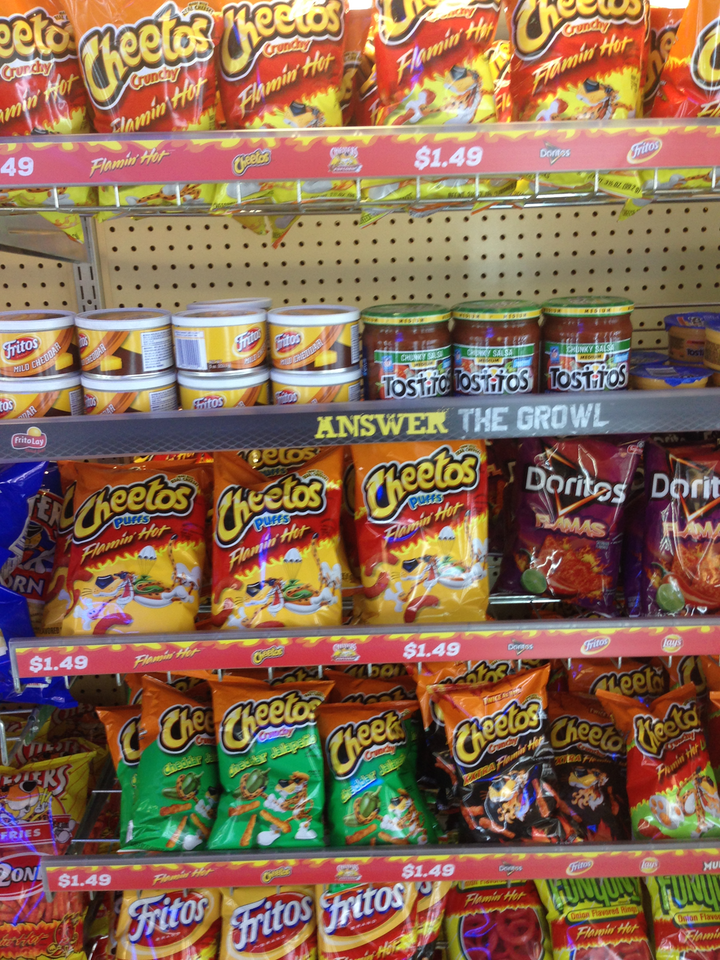chip: (60, 462, 195, 646), (353, 440, 486, 626), (215, 674, 336, 858), (504, 447, 643, 606), (209, 454, 330, 629), (75, 4, 210, 155), (213, 1, 352, 143), (361, 1, 504, 130), (335, 697, 442, 853), (514, 2, 643, 122), (459, 667, 538, 854), (626, 686, 703, 846), (324, 876, 439, 960), (544, 878, 645, 960), (122, 882, 224, 960), (226, 878, 316, 958)
